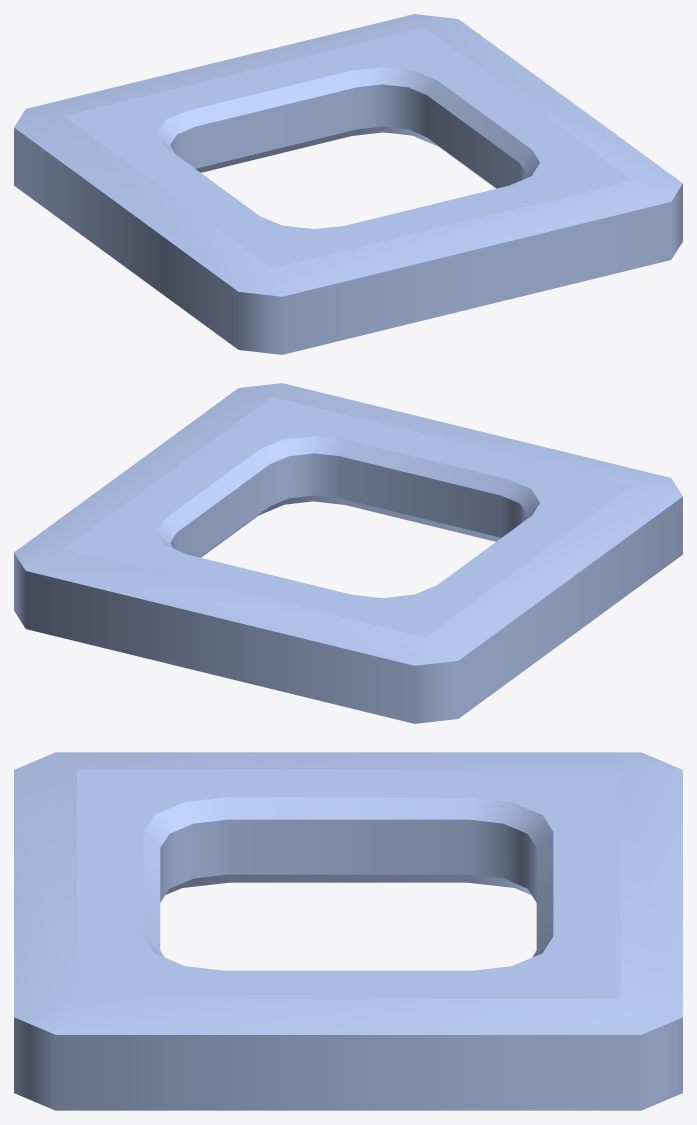
Rendered from tile_hole.glb.
3 renders of one model, top to bottom at view 1: azimuth 30°, elevation 25°; view 2: azimuth 150°, elevation 25°; view 3: azimuth 270°, elevation 25°, orthographic. The views are drawn at different scales.
Visible parts, largest first — view 1: tile_hole_mesh; view 2: tile_hole_mesh; view 3: tile_hole_mesh.
Part boxes in pixels (x1,y1,x2,y2): tile_hole_mesh: (14,14,682,354); tile_hole_mesh: (14,383,682,723); tile_hole_mesh: (14,752,682,1110).
Bounding box in the file's own units: 4 × 0.5625 × 4.
